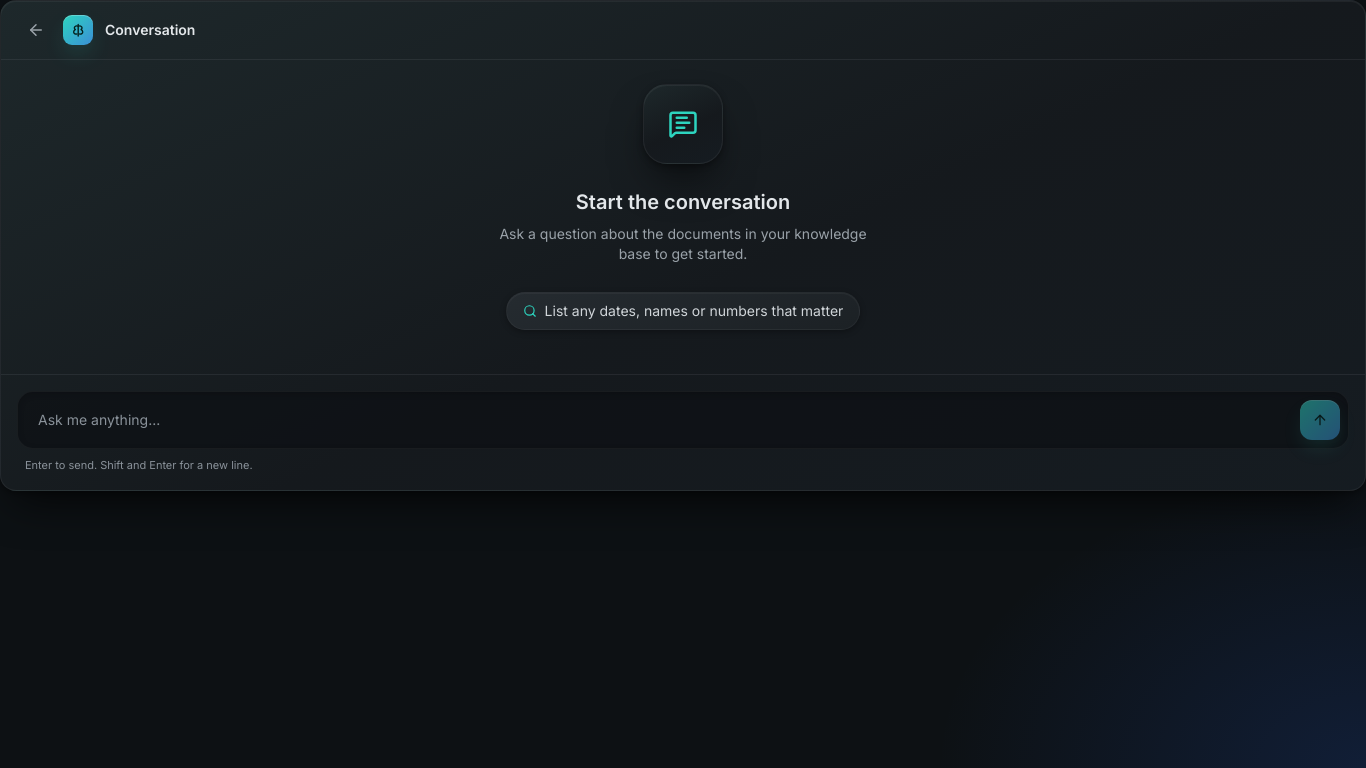
it: chat streaming › C05 an error event shows the message and keeps the partial answer as interrupted
The width and height of the screenshot is (1366, 768).
Expected: the heading "Start the conversation" is shown, [576,188,790,216]
Type "Question" into the text box named "Message" at [659, 420], box [26,400,1292,440]
Then press Enter
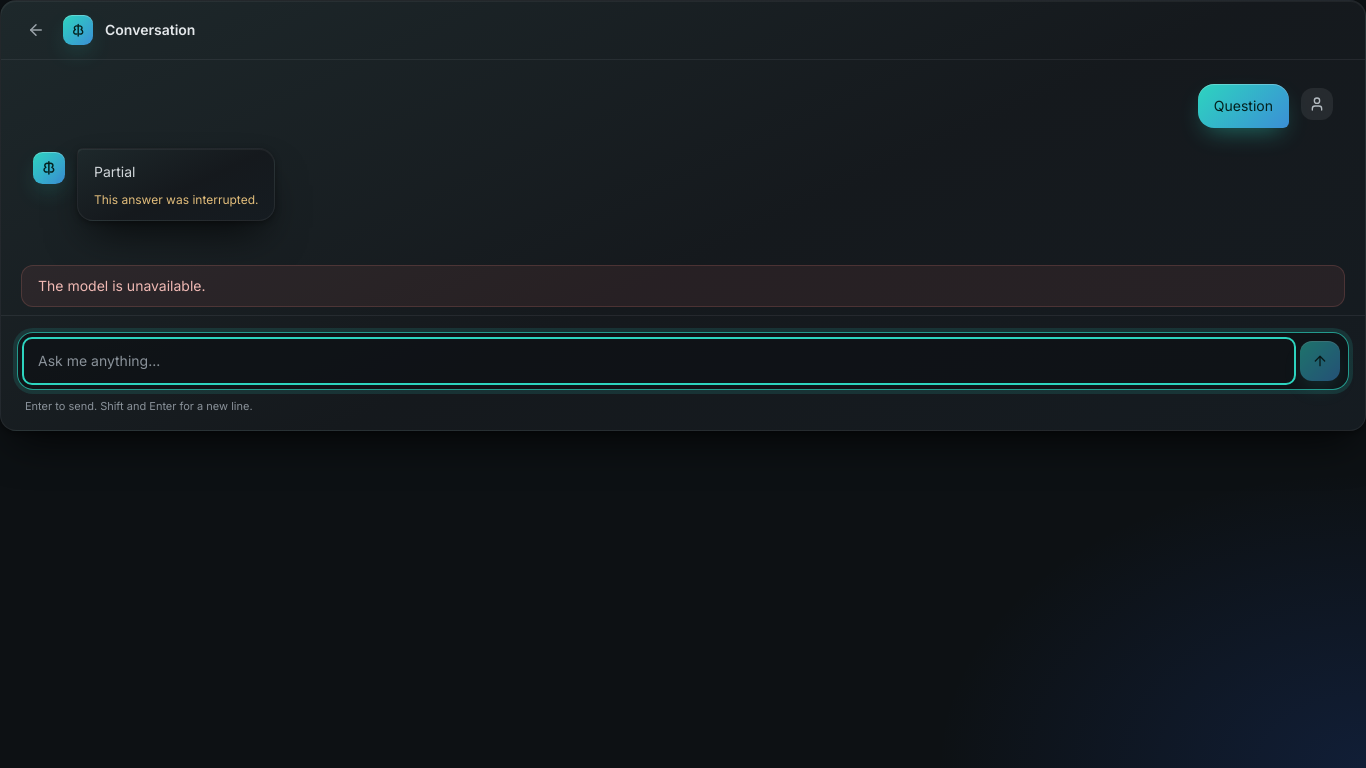
Expected: the message reads "The model is unavailable.", [38,277,206,294]
Expected: the text "Partial" is shown, [94,163,136,180]
Expected: the text "This answer was interrupted." is shown, [94,192,258,208]
